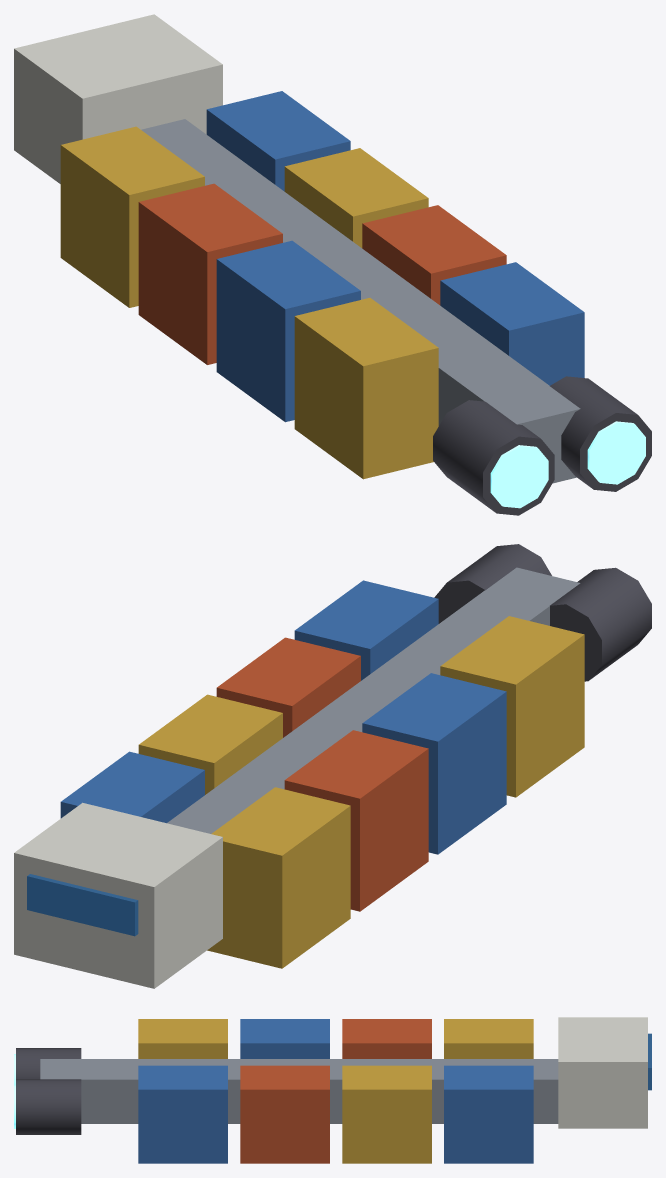
The model's file is freighter.glb.
3 renders of one model, top to bottom at view 1: azimuth 30°, elevation 25°; view 2: azimuth 150°, elevation 25°; view 3: azimuth 270°, elevation 25°, orthographic. The views are drawn at different scales.
Parts seen in each view (by area): view 1: freighter; view 2: freighter; view 3: freighter.
Part boxes in pixels (x1,y1,x2,y2): freighter: [14, 14, 651, 515]; freighter: [14, 544, 651, 988]; freighter: [14, 1017, 651, 1163].
Bounding box in the file's own units: 4.1 × 2.4 × 15.65.
